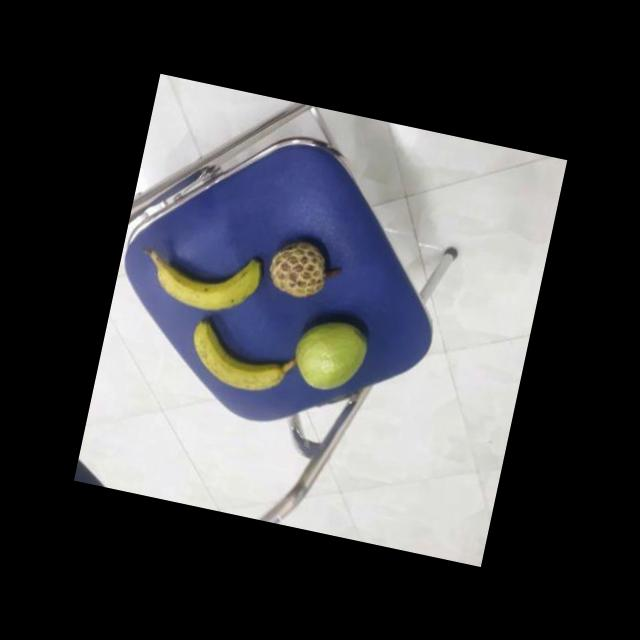Sakya fruit: (266, 234, 343, 304)
banana: (185, 311, 300, 398), (151, 237, 271, 319)
